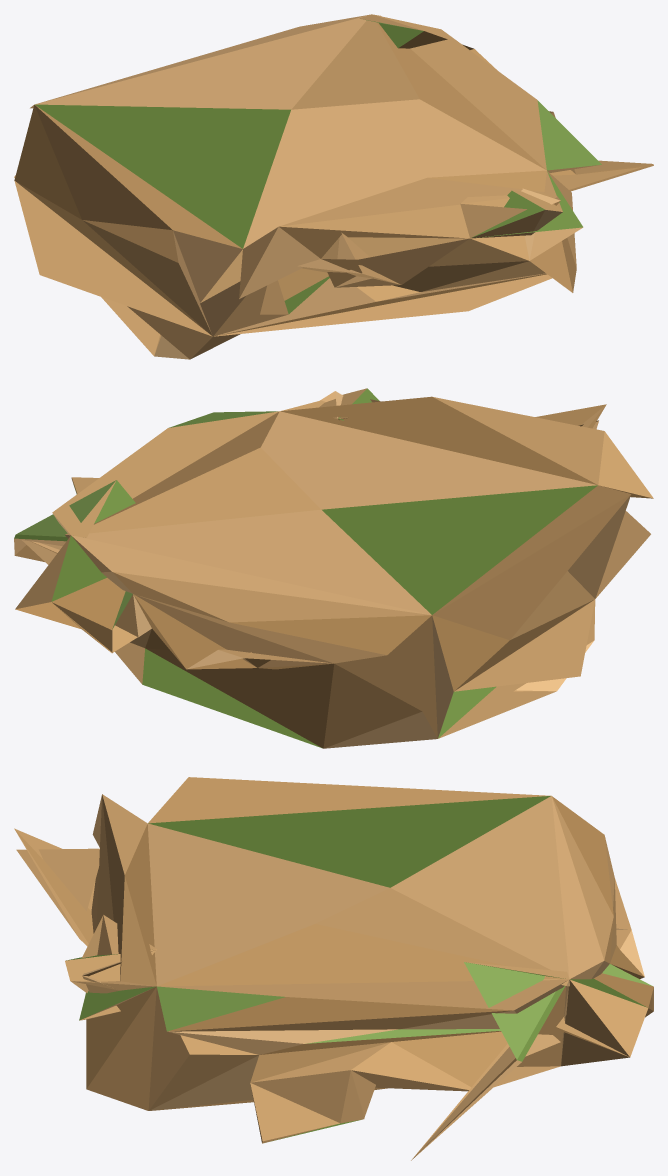
Rendered from ChunkSandstone_b.fbx.
3 views of the same model, one above another, from view 1: azimuth 30°, elevation 25°; view 2: azimuth 150°, elevation 25°; view 3: azimuth 270°, elevation 25° (orthographic). The views are drawn at different scales.
Visible parts, largest first — view 1: ChunkSandstone_b; view 2: ChunkSandstone_b; view 3: ChunkSandstone_b.
Part boxes in pixels (bbox=[...]): ChunkSandstone_b: bbox=[14, 14, 653, 359]; ChunkSandstone_b: bbox=[14, 388, 653, 748]; ChunkSandstone_b: bbox=[14, 777, 653, 1160].
Size of what is drawn, in the model's own units: 0.315 by 0.1045 by 0.2884.
